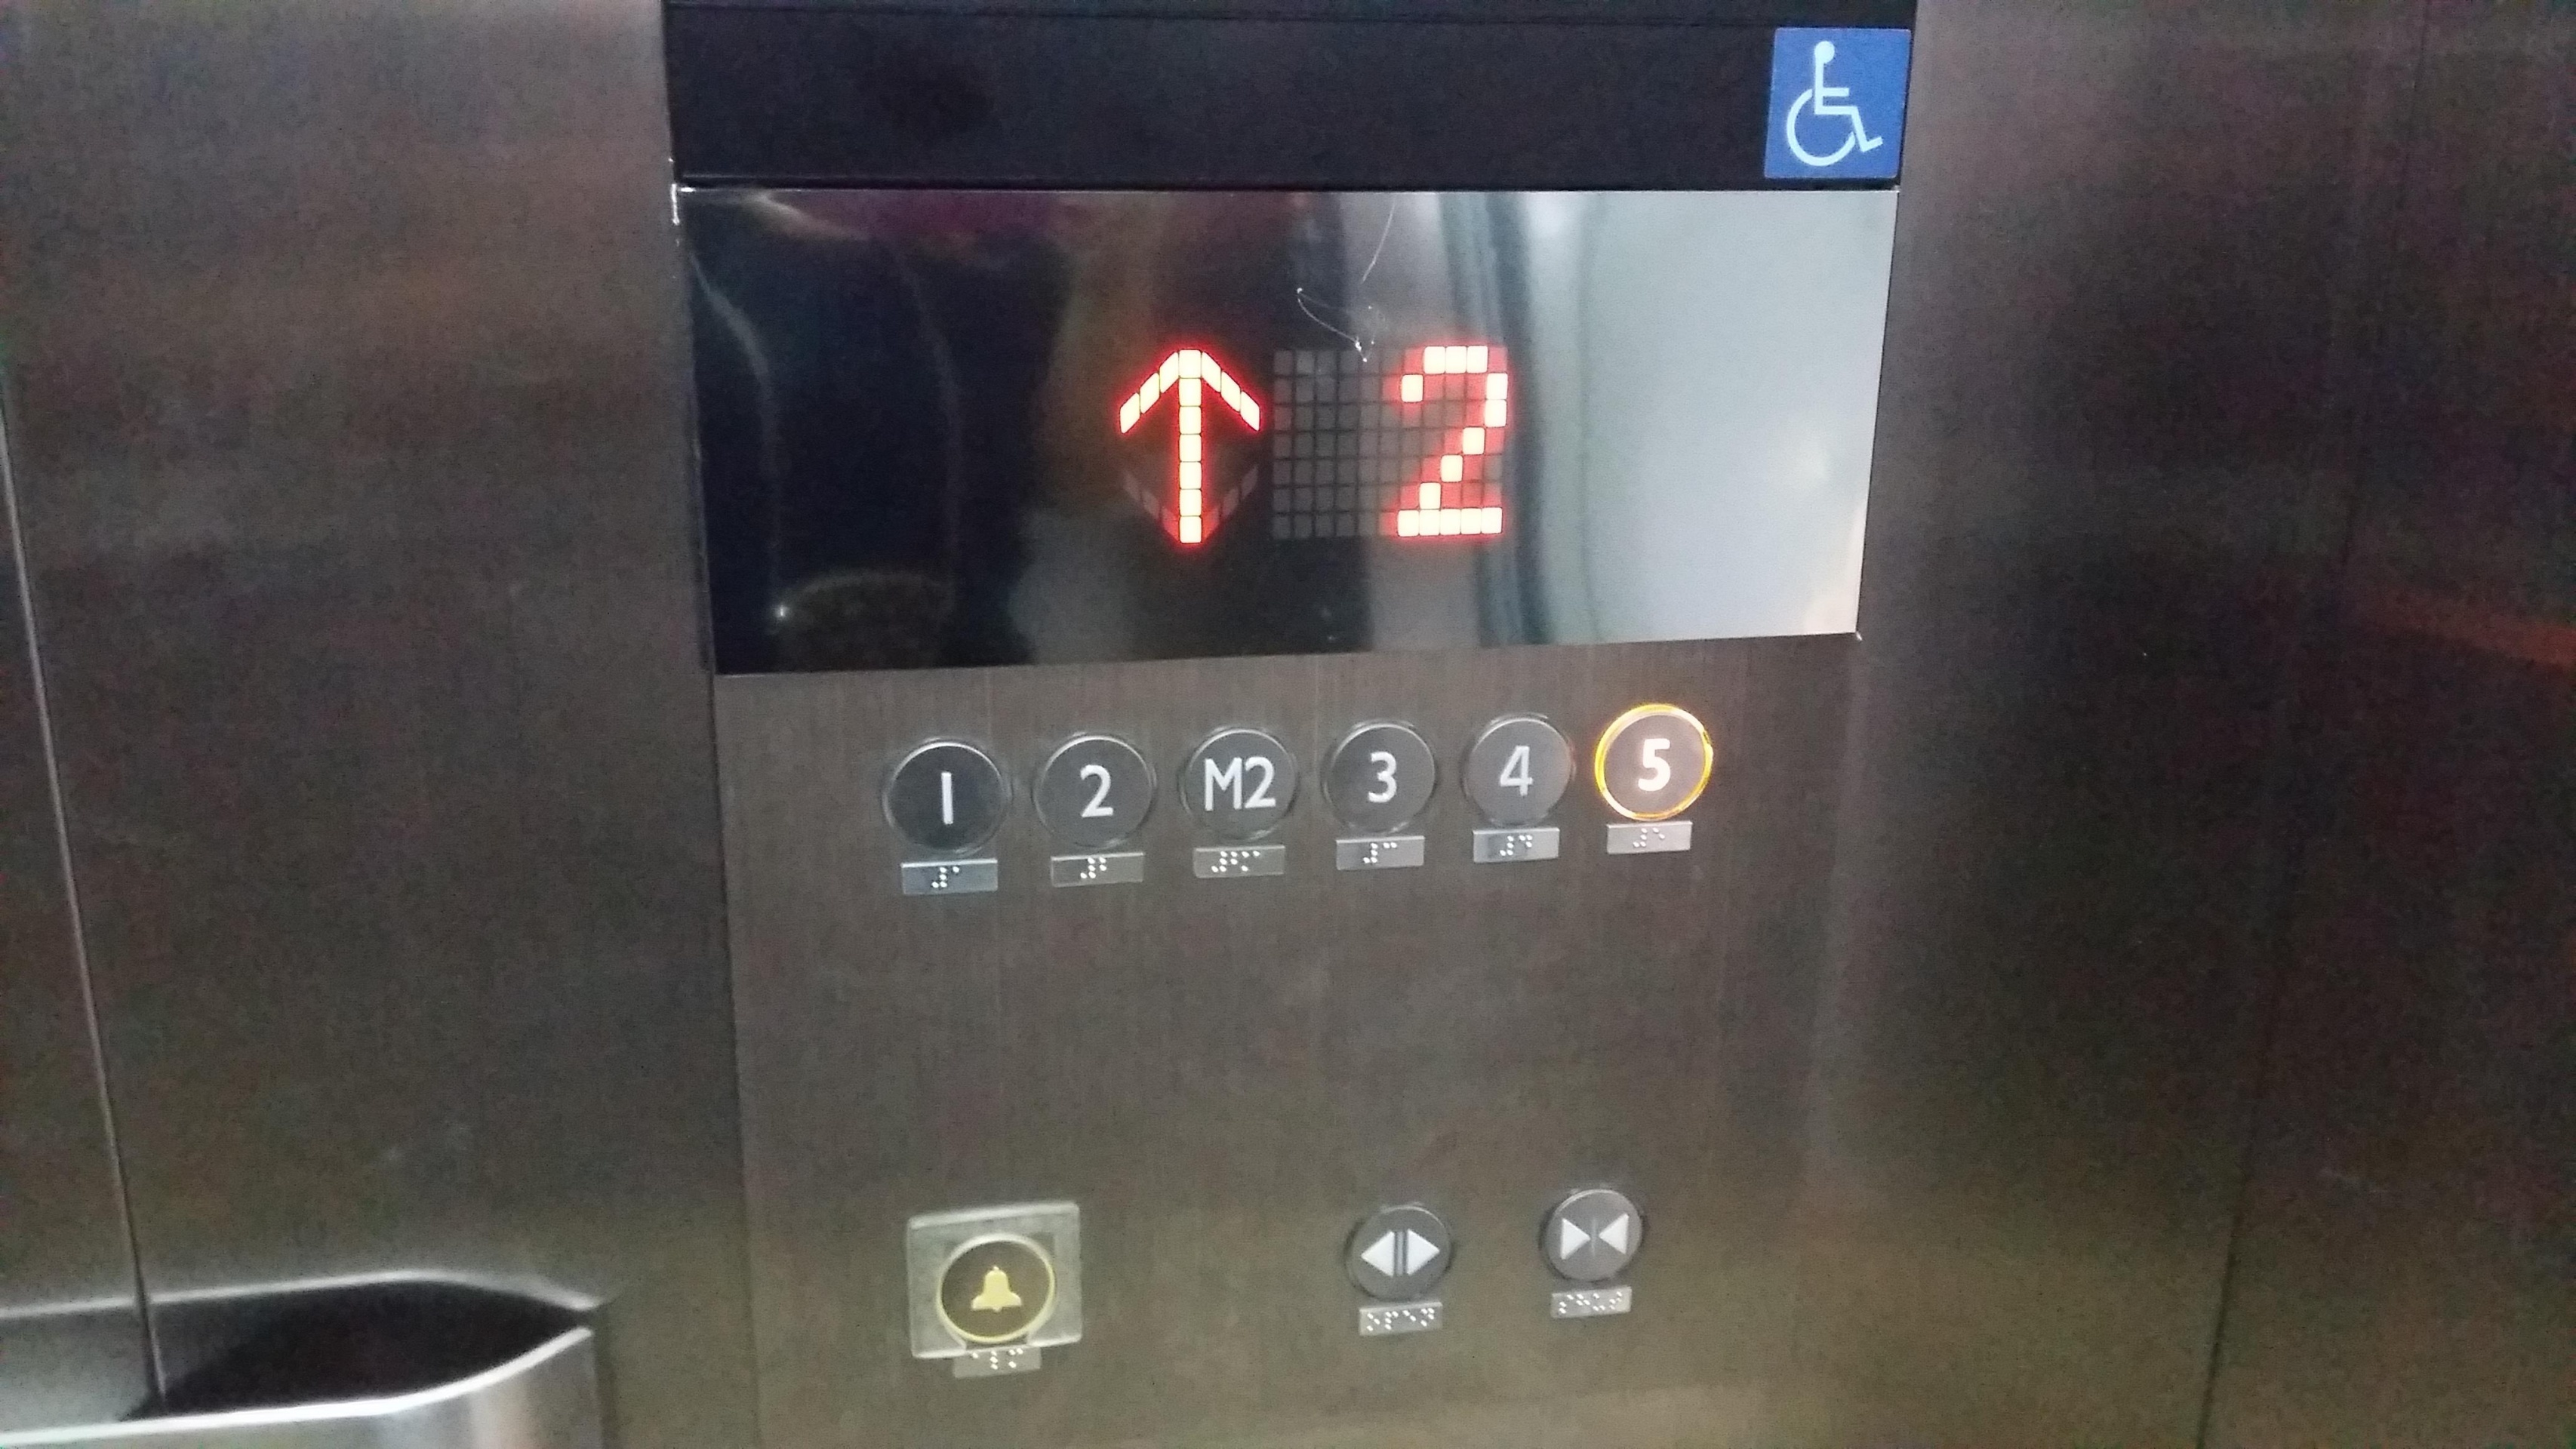1: (879, 734, 1014, 858)
2: (1033, 729, 1157, 853)
3: (1316, 717, 1440, 837)
4: (1460, 709, 1580, 830)
5: (1592, 697, 1720, 826)
M2: (1175, 720, 1300, 842)
alarm: (904, 1198, 1090, 1362)
close: (1537, 1182, 1651, 1292)
led: (671, 172, 1900, 679), (1764, 25, 1918, 193)
open: (1343, 1198, 1453, 1300)
